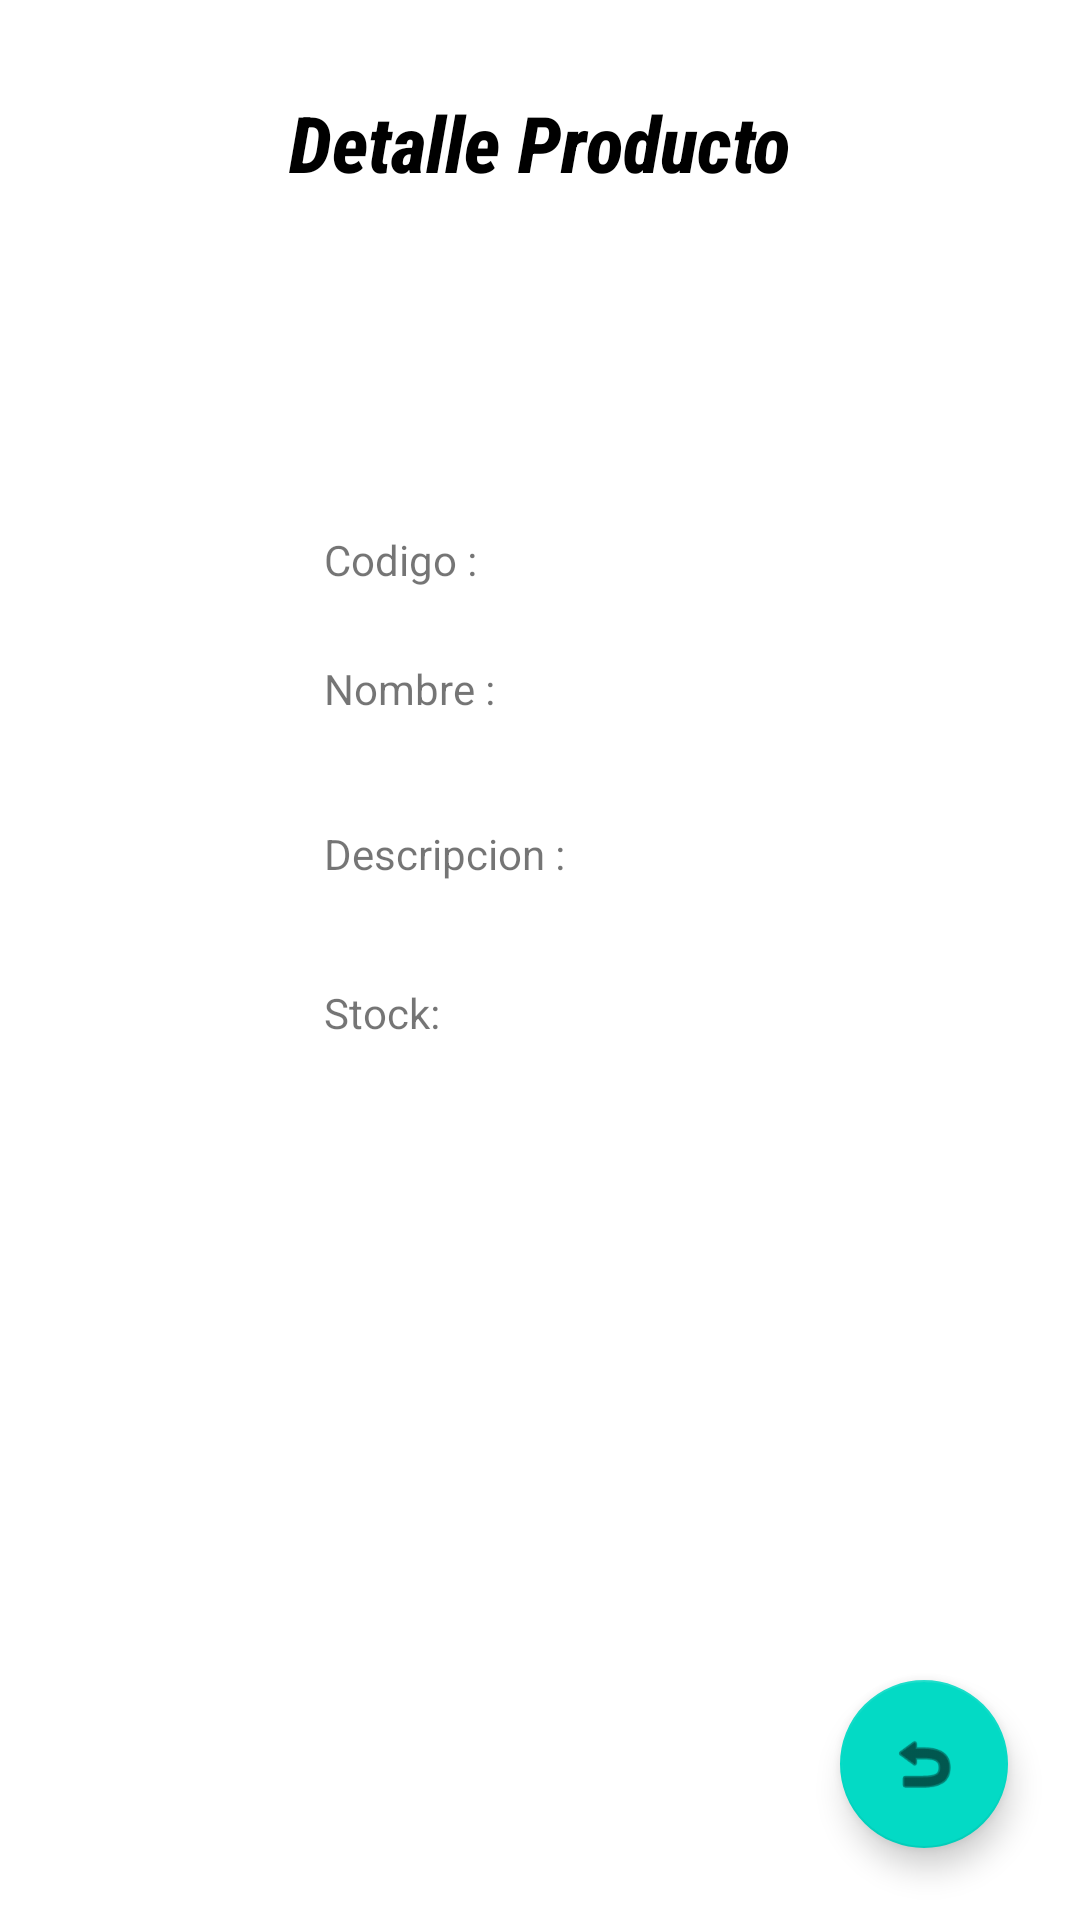

Point at icon controls on the screen. Image size 1080px×1920px, points as (x=x, y=y).
revert: (x=924, y=1764)
